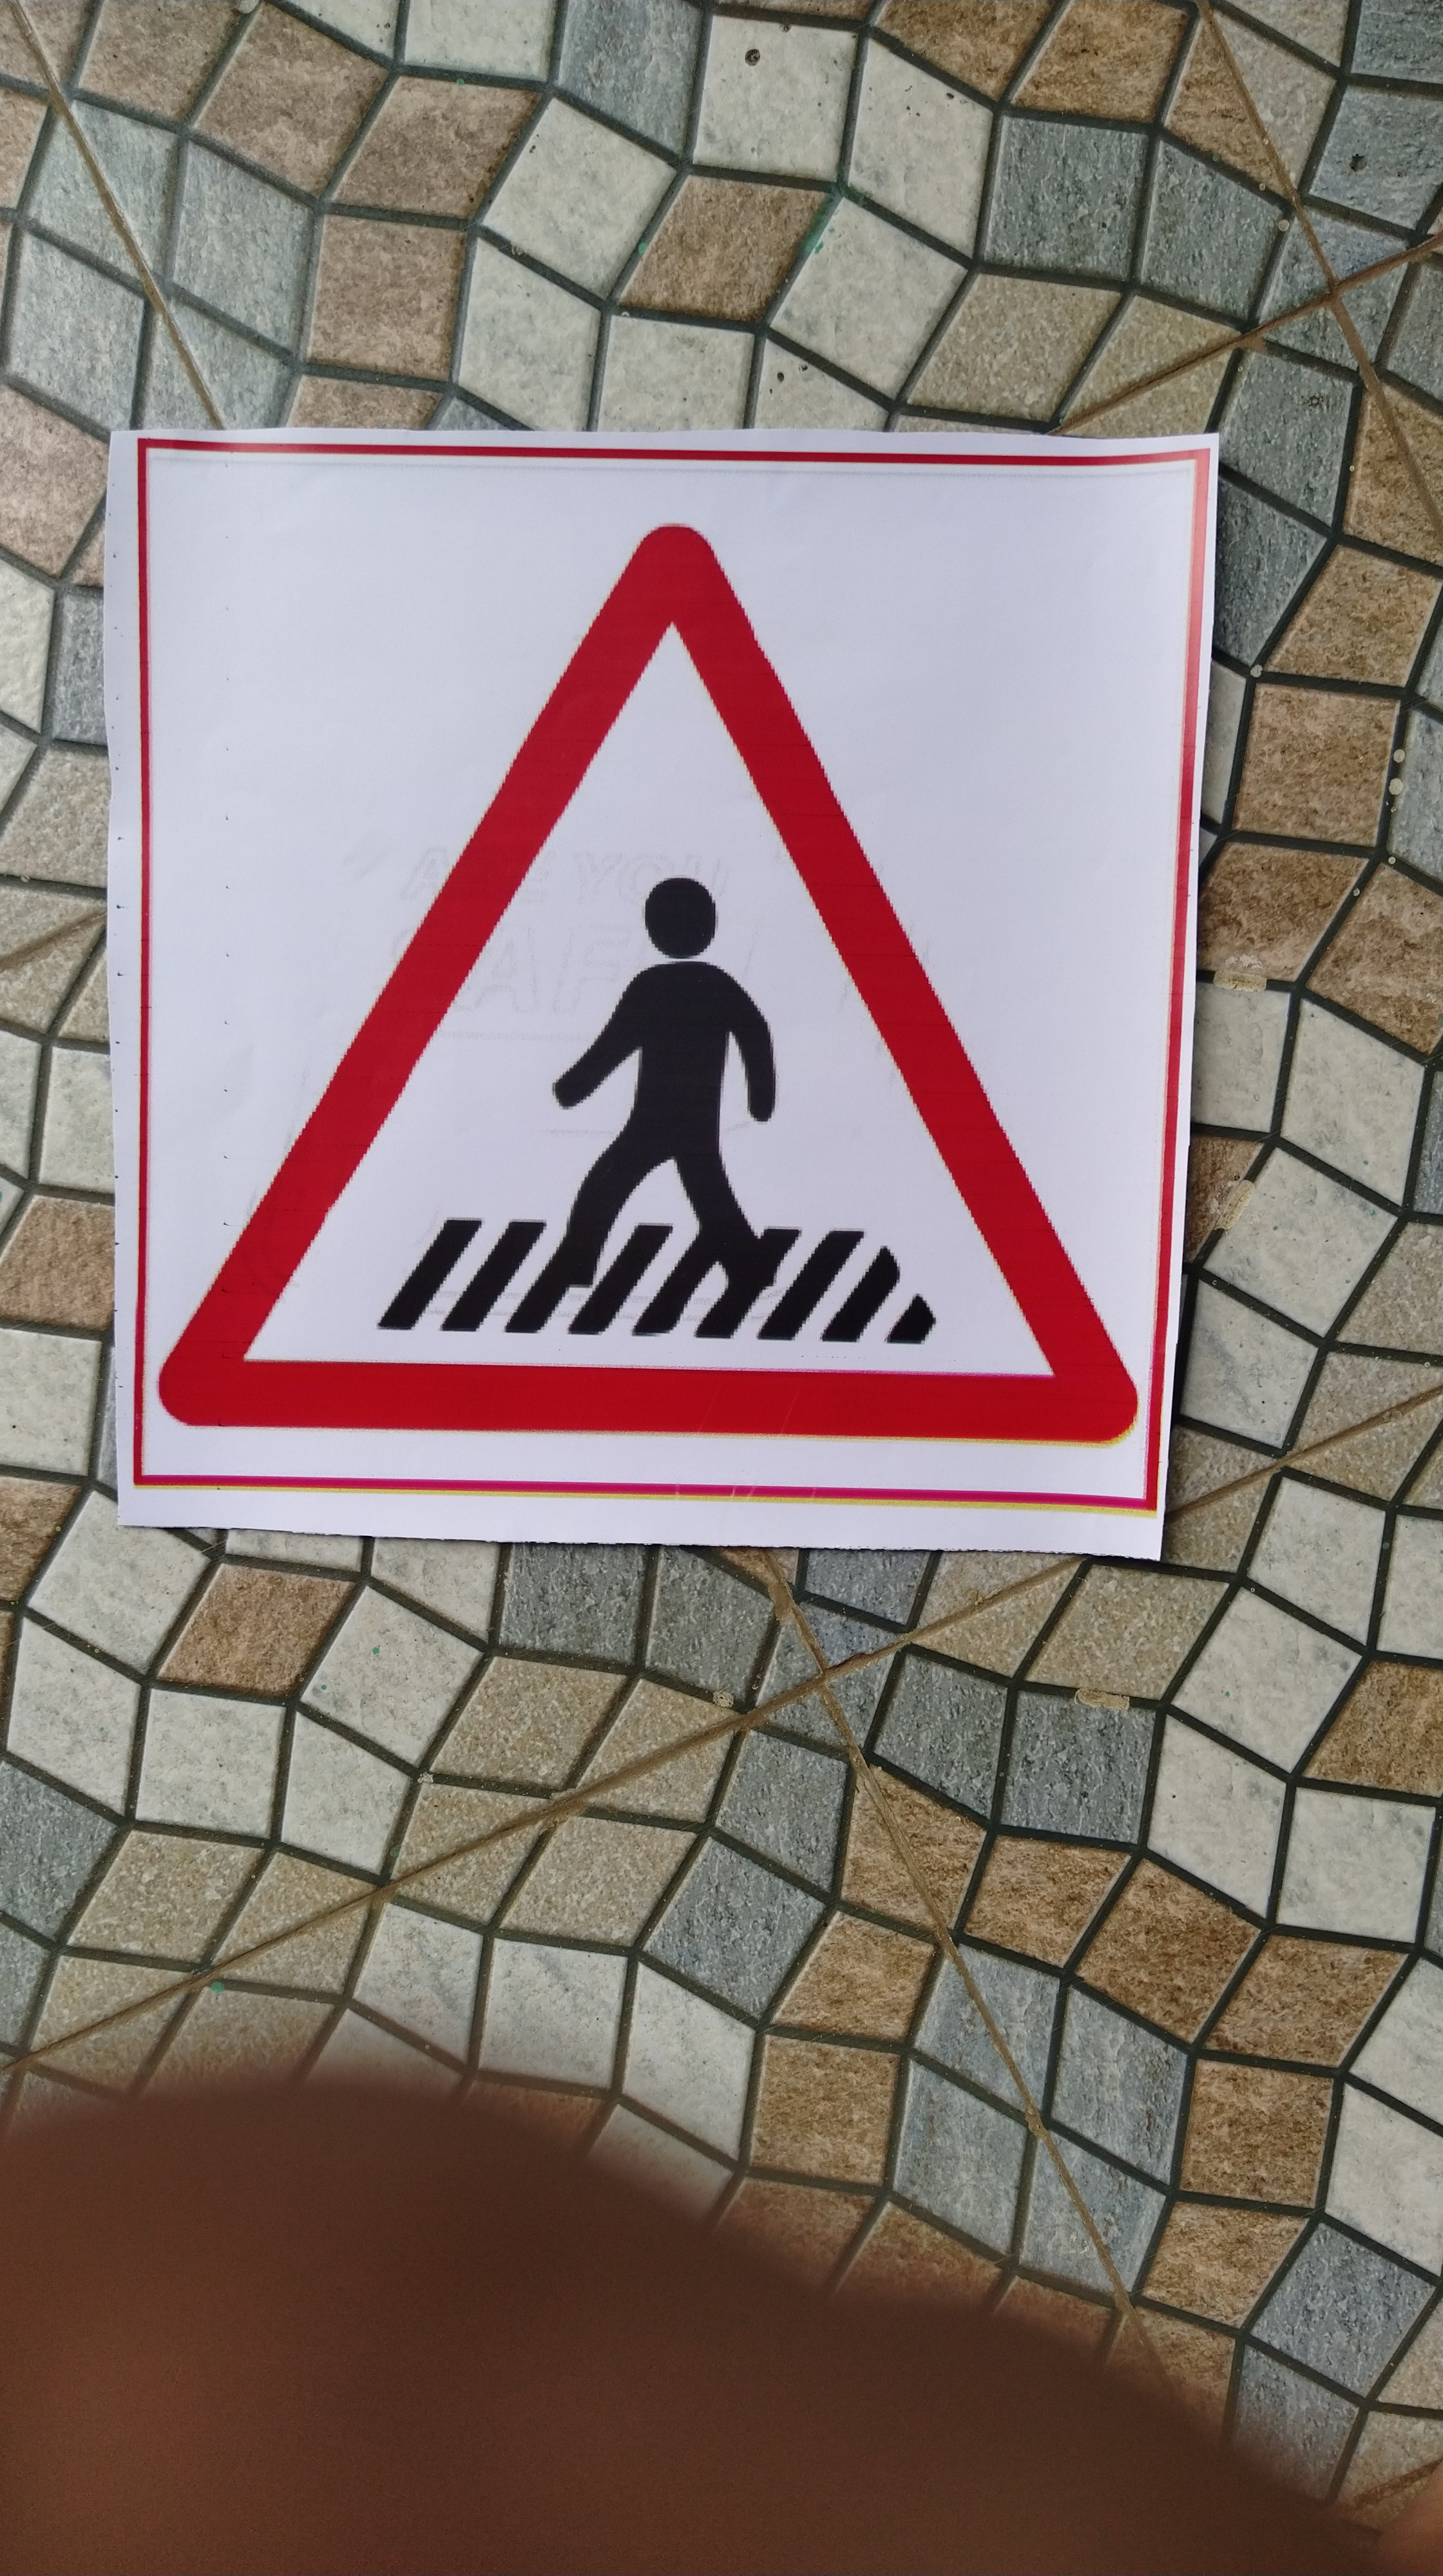pedestrain crossing: (154, 464, 1137, 1500)
